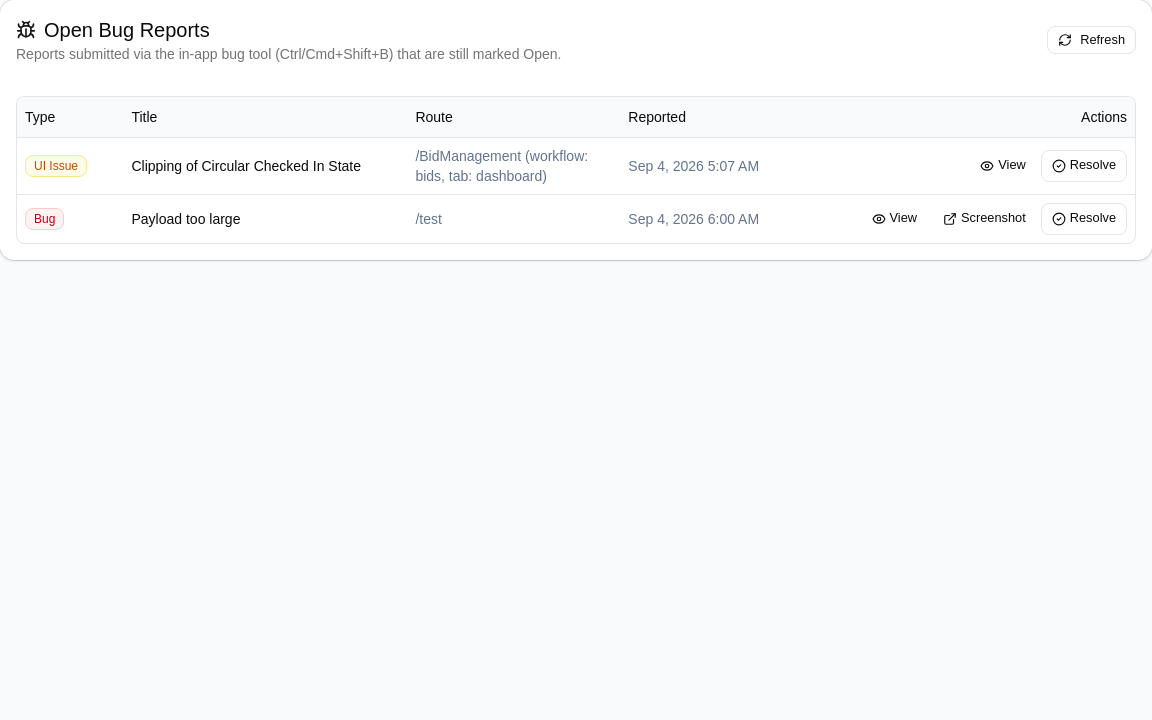
Test case: BugReportsAdmin › View opens the detail dialog for the clicked report
Expected: the text "Clipping of Circular Checked In State" is shown, [124,137,407,194]
Click the button "View" in the row of "Payload too large" at (894, 218), box [860,202,928,234]
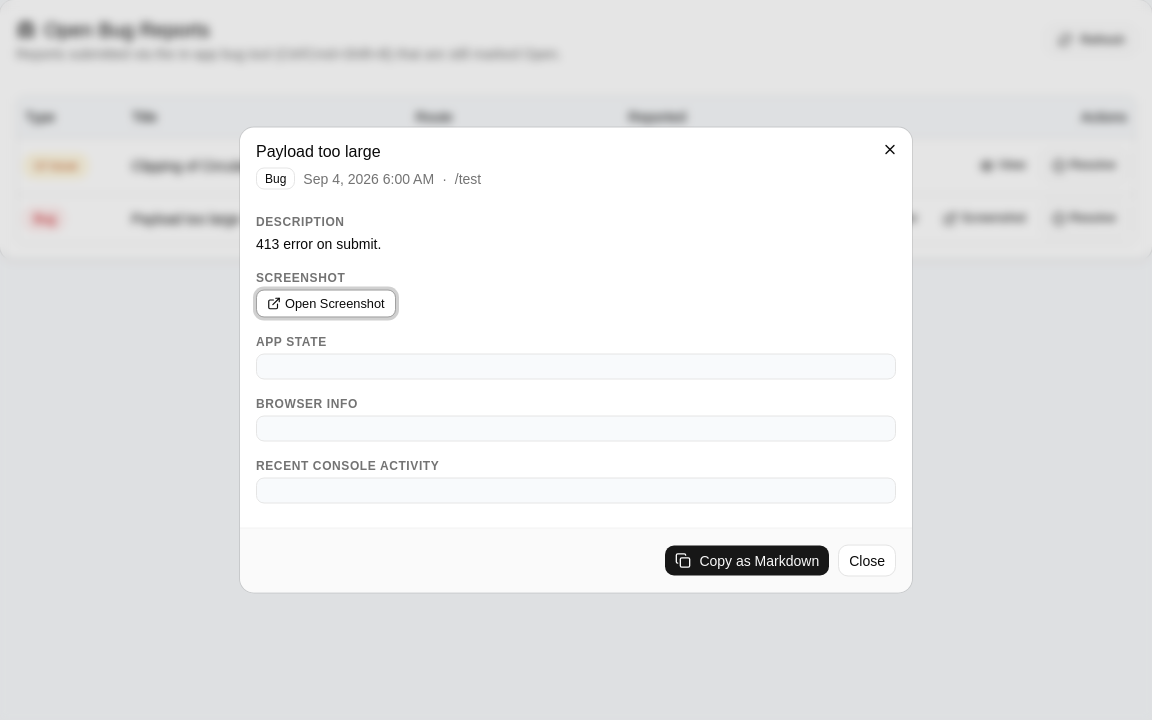
Expected: the button "Copy as Markdown" is shown, [664,544,830,576]
Expected: the text "413 error on submit." is shown, [256,236,381,252]
